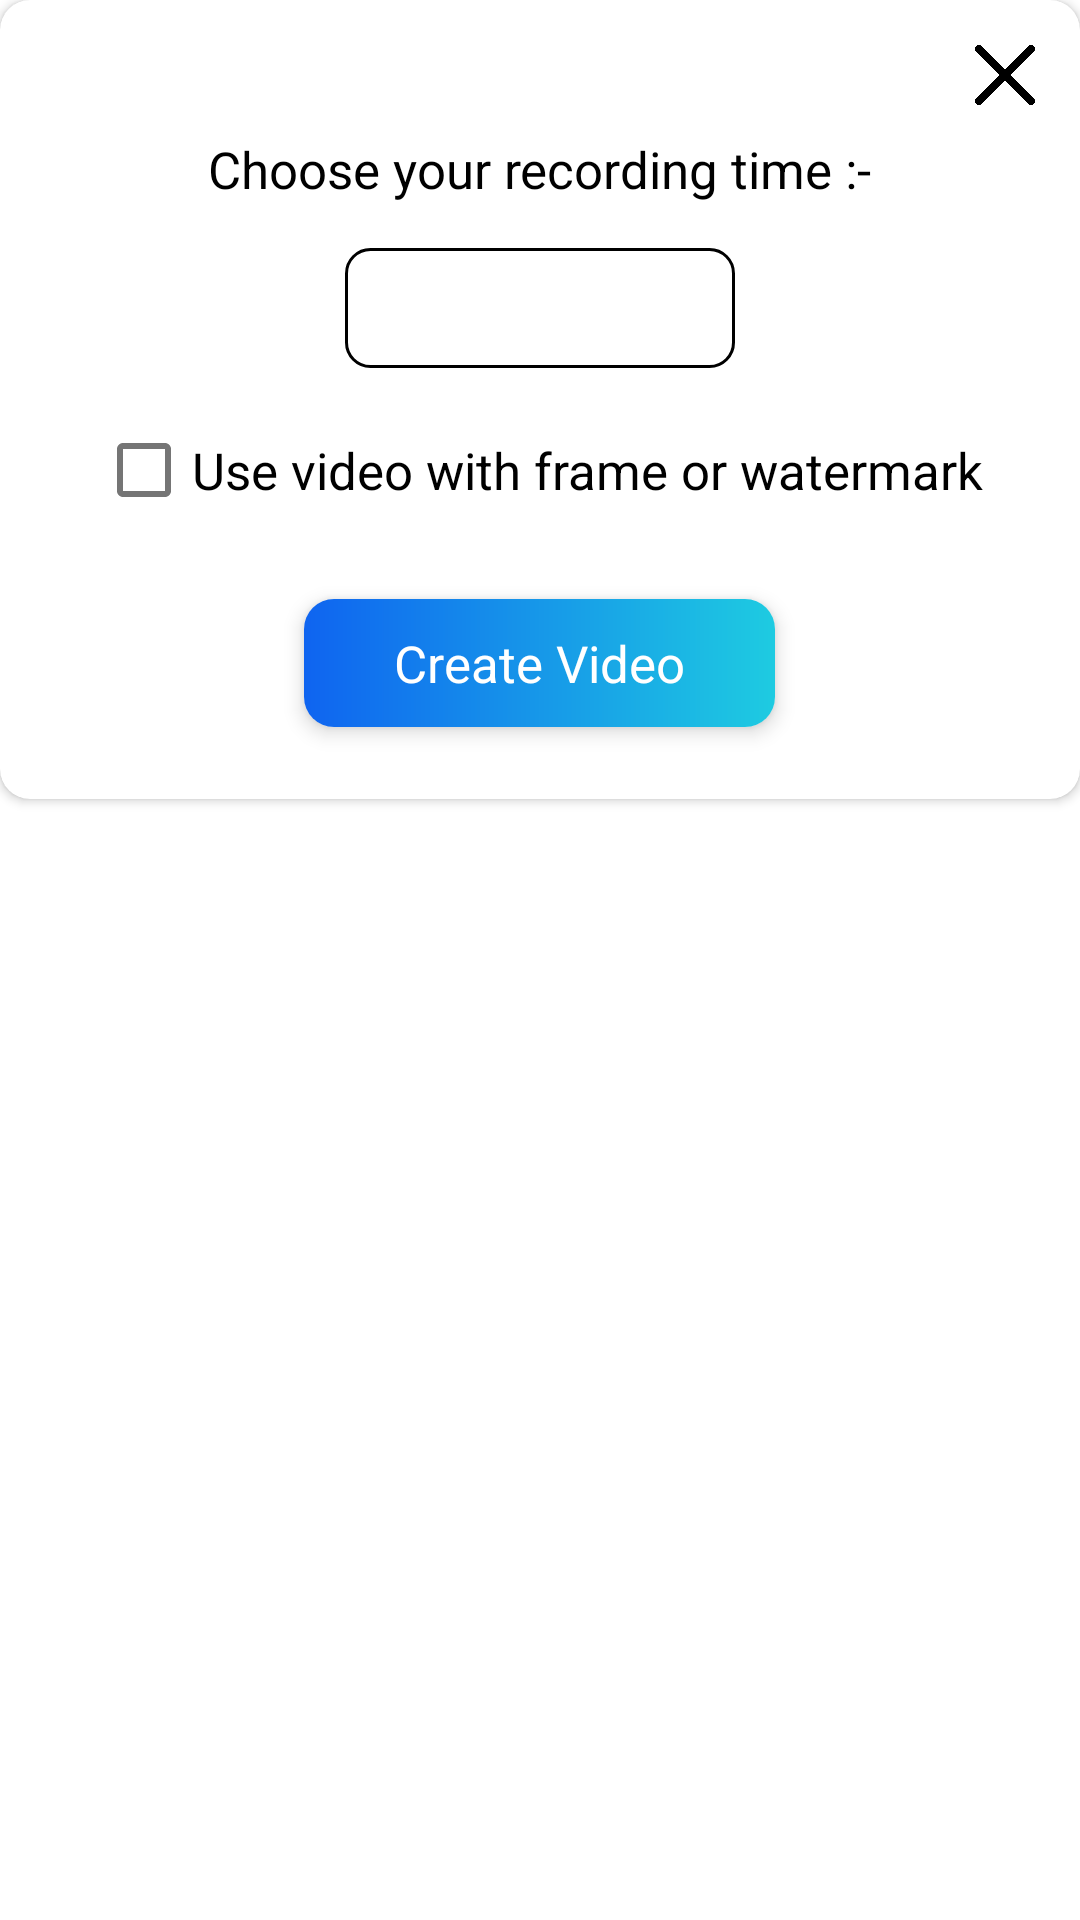

Named icons in this screenshot (1080×1920) and their bounding boxes, (x1, y1, x2, y2):
close: (975, 45, 1035, 105)
